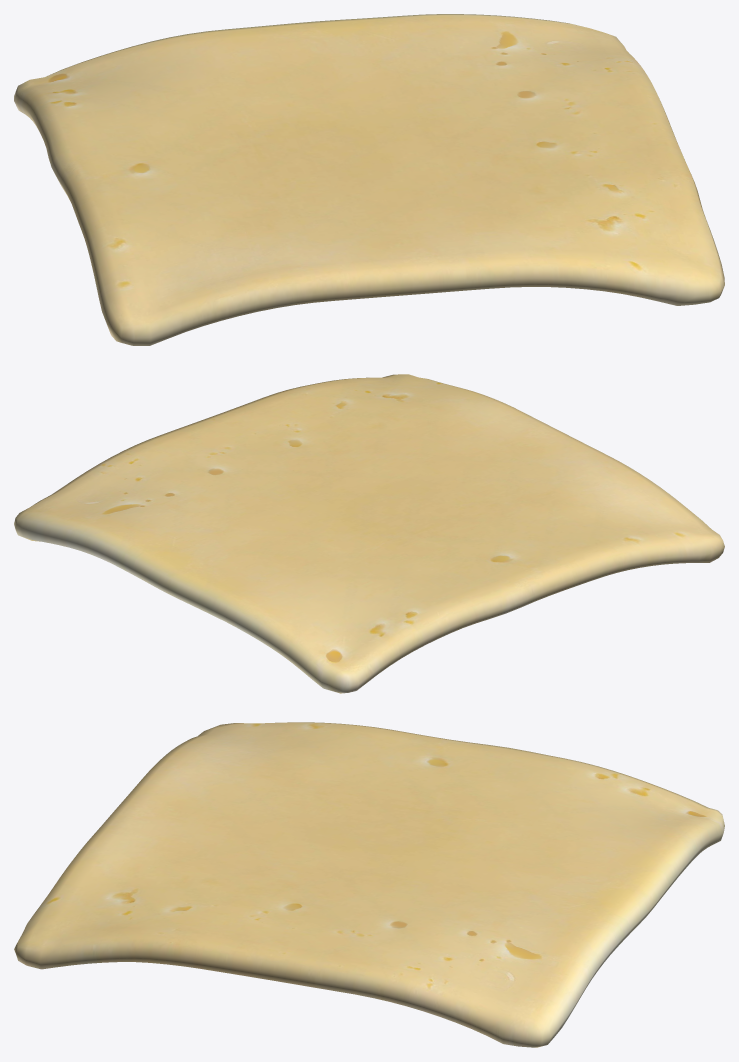
Rendered from cheese.glb.
The picture shows the model from 3 angles, top to bottom: view 1: azimuth 30°, elevation 25°; view 2: azimuth 150°, elevation 25°; view 3: azimuth 270°, elevation 25°; orthographic projection. The views are drawn at different scales.
Visible parts, largest first — view 1: cheeseN3; view 2: cheeseN3; view 3: cheeseN3.
Part boxes in pixels (x1,y1,x2,y2): cheeseN3: (14,14,724,345); cheeseN3: (14,374,724,693); cheeseN3: (14,722,724,1047).
Size of the model in its own units: 0.1078 by 0.00992 by 0.1072.
Materials: 1 (1 with a texture image).
